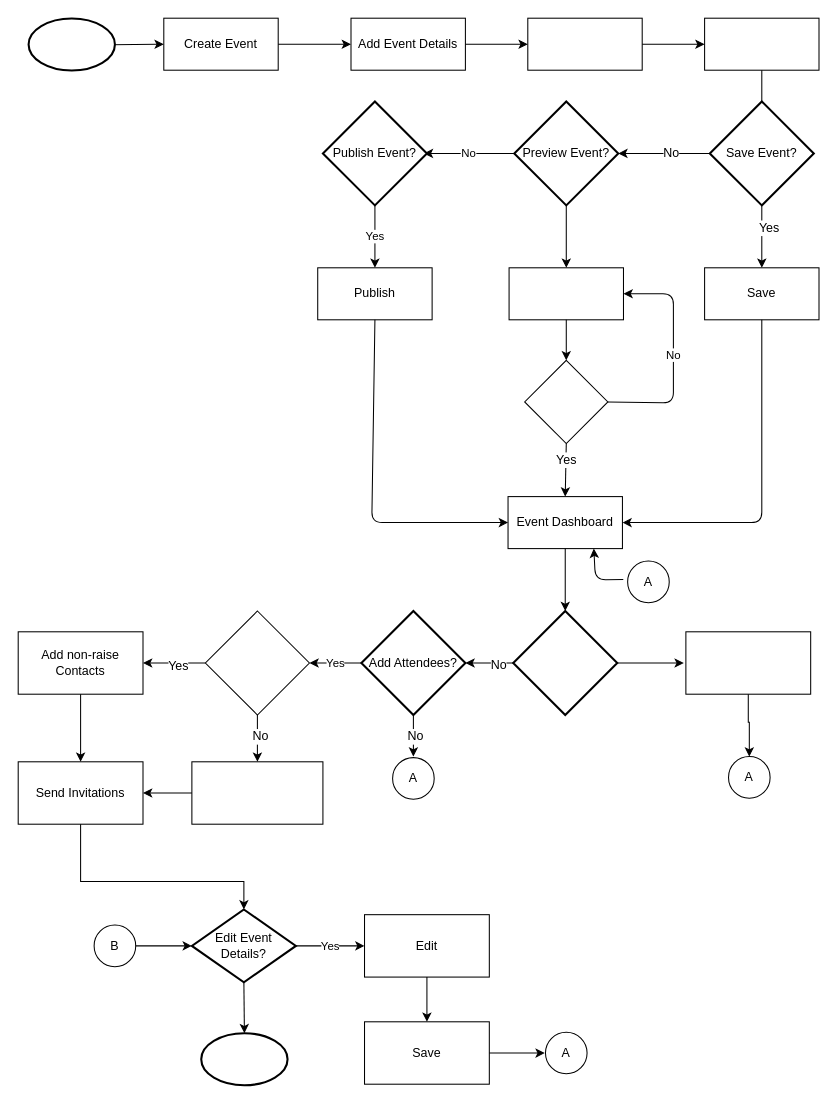
Some shapes in this 837 by 1104 pixel diagram are drawn without their labels. The centre of each missing label's shape, as x and y in pixels:
Add non-raise Contacts?: (x=256, y=662)
Add Raise Contacts: (x=257, y=792)
Close?: (x=566, y=401)
Create Ticket: (x=584, y=43)
Display: (x=565, y=293)
End: (x=244, y=1059)
Select Ticket Type: (x=761, y=43)
Share event: (x=748, y=662)
Share Event?: (x=565, y=662)
Start: (x=71, y=44)
